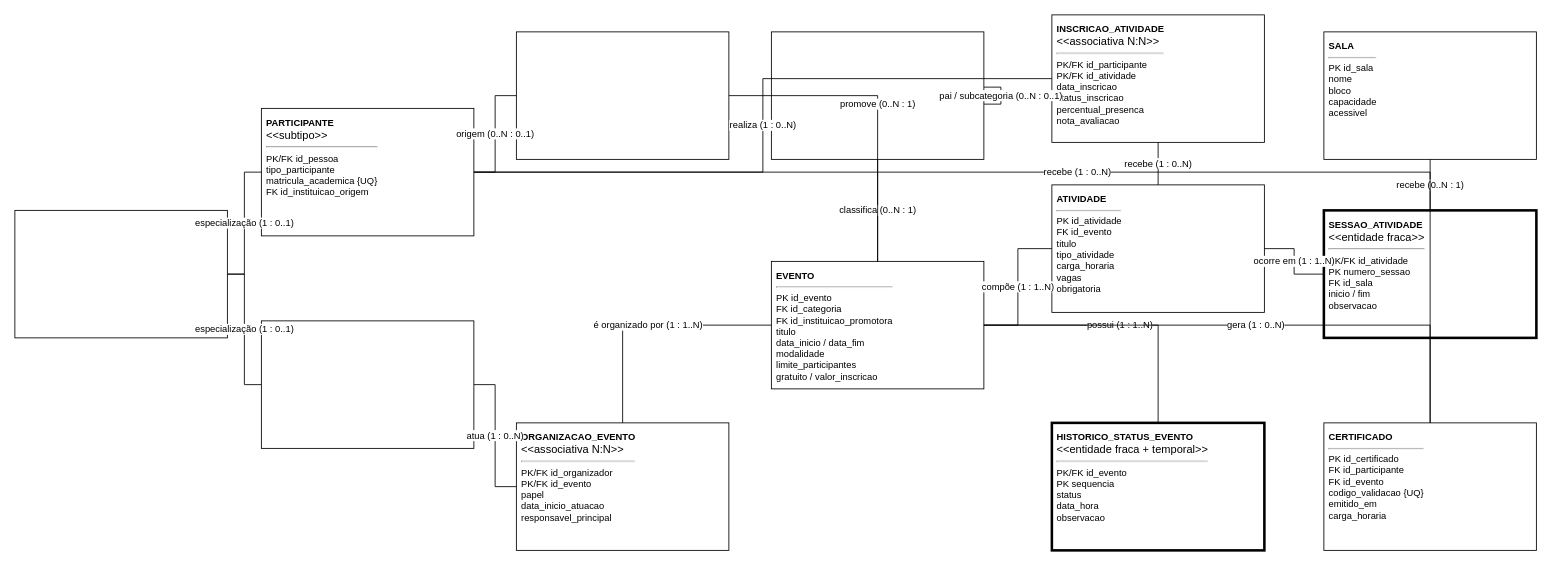
The diagram is 1552 pixels wide and 566 high, and some of its shapes have lost their labels. Here are the shapes that lost their labels. From the top down, the box of each, then its label:
(516, 31, 729, 159): INSTITUICAO PK id_instituicao nome sigla {UQ} tipo cidade / UF
(771, 31, 984, 159): CATEGORIA_EVENTO PK id_categoria nome {UQ} descricao FK id_categoria_pai
(14, 210, 227, 338): PESSOA <<supertipo>> PK id_pessoa nome email {UQ} telefone data_nascimento
(261, 320, 474, 448): ORGANIZADOR <<subtipo>> PK/FK id_pessoa cargo setor ativo
